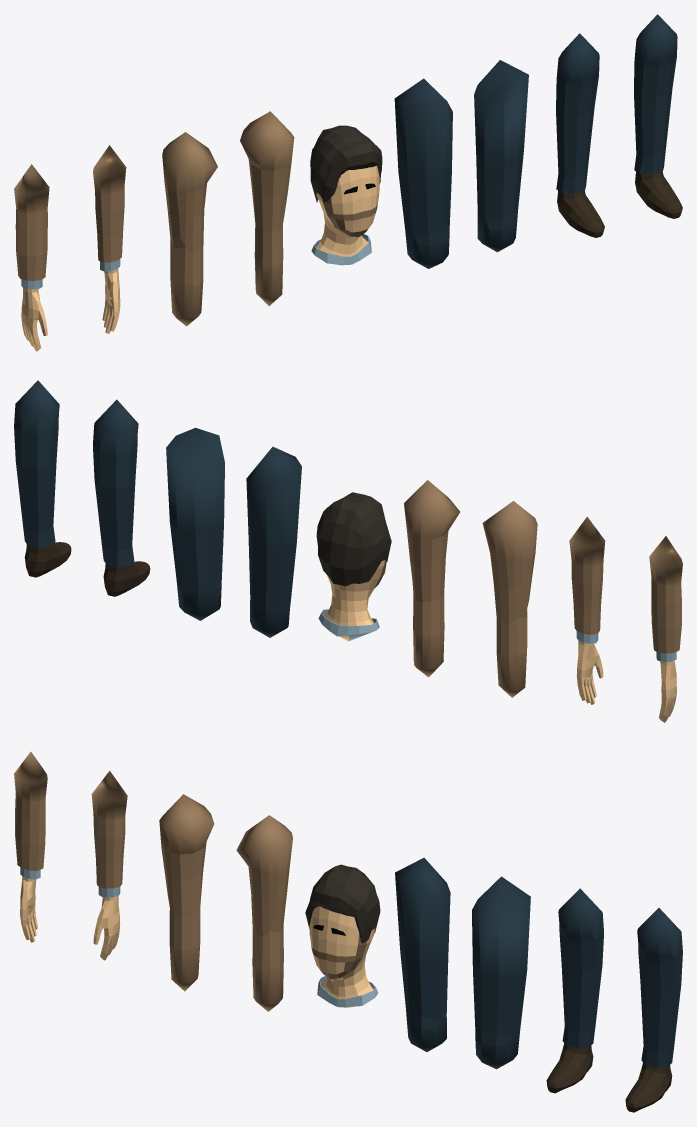
Rendered from 00_Homen.fbx.
3 renders of one model, top to bottom at view 1: azimuth 30°, elevation 25°; view 2: azimuth 150°, elevation 25°; view 3: azimuth 330°, elevation 25°, orthographic.
Visible parts, largest first — view 1: 00_CoxaDir, 00_CoxaEsq, 00_Cabeça, 00_BracoDir, 00_PernaDir, 00_PernaEsq, 00_BracoEsq, 00_AntebracoDir, 00_AntebracoEsq; view 2: 00_CoxaEsq, 00_CoxaDir, 00_Cabeça, 00_PernaDir, 00_PernaEsq, 00_BracoDir, 00_BracoEsq, 00_AntebracoEsq, 00_AntebracoDir; view 3: 00_CoxaEsq, 00_CoxaDir, 00_Cabeça, 00_PernaEsq, 00_PernaDir, 00_BracoDir, 00_BracoEsq, 00_AntebracoEsq, 00_AntebracoDir.
Boxes of the visible parts, bbox=[...] form: 00_CoxaDir: bbox=[394, 78, 452, 268]; 00_CoxaEsq: bbox=[474, 60, 528, 252]; 00_Cabeça: bbox=[310, 125, 382, 265]; 00_BracoDir: bbox=[162, 132, 217, 326]; 00_PernaDir: bbox=[556, 33, 604, 237]; 00_PernaEsq: bbox=[634, 14, 682, 218]; 00_BracoEsq: bbox=[240, 111, 294, 306]; 00_AntebracoDir: bbox=[14, 164, 49, 351]; 00_AntebracoEsq: bbox=[93, 145, 126, 333]; 00_CoxaEsq: bbox=[166, 427, 224, 620]; 00_CoxaDir: bbox=[246, 446, 301, 637]; 00_Cabeça: bbox=[316, 492, 391, 641]; 00_PernaDir: bbox=[93, 399, 150, 596]; 00_PernaEsq: bbox=[14, 380, 71, 577]; 00_BracoDir: bbox=[482, 501, 537, 697]; 00_BracoEsq: bbox=[404, 480, 459, 677]; 00_AntebracoEsq: bbox=[569, 516, 605, 704]; 00_AntebracoDir: bbox=[649, 536, 682, 722]; 00_CoxaEsq: bbox=[472, 876, 530, 1069]; 00_CoxaDir: bbox=[395, 857, 450, 1051]; 00_Cabeça: bbox=[305, 864, 380, 1007]; 00_PernaEsq: bbox=[625, 908, 682, 1112]; 00_PernaDir: bbox=[546, 888, 603, 1093]; 00_BracoDir: bbox=[159, 794, 214, 991]; 00_BracoEsq: bbox=[236, 815, 292, 1011]; 00_AntebracoEsq: bbox=[91, 771, 127, 960]; 00_AntebracoDir: bbox=[14, 752, 47, 942].
Bounding box in the file's own units: 211 × 61.13 × 23.8.
Materials: 1 (1 with a texture image).
